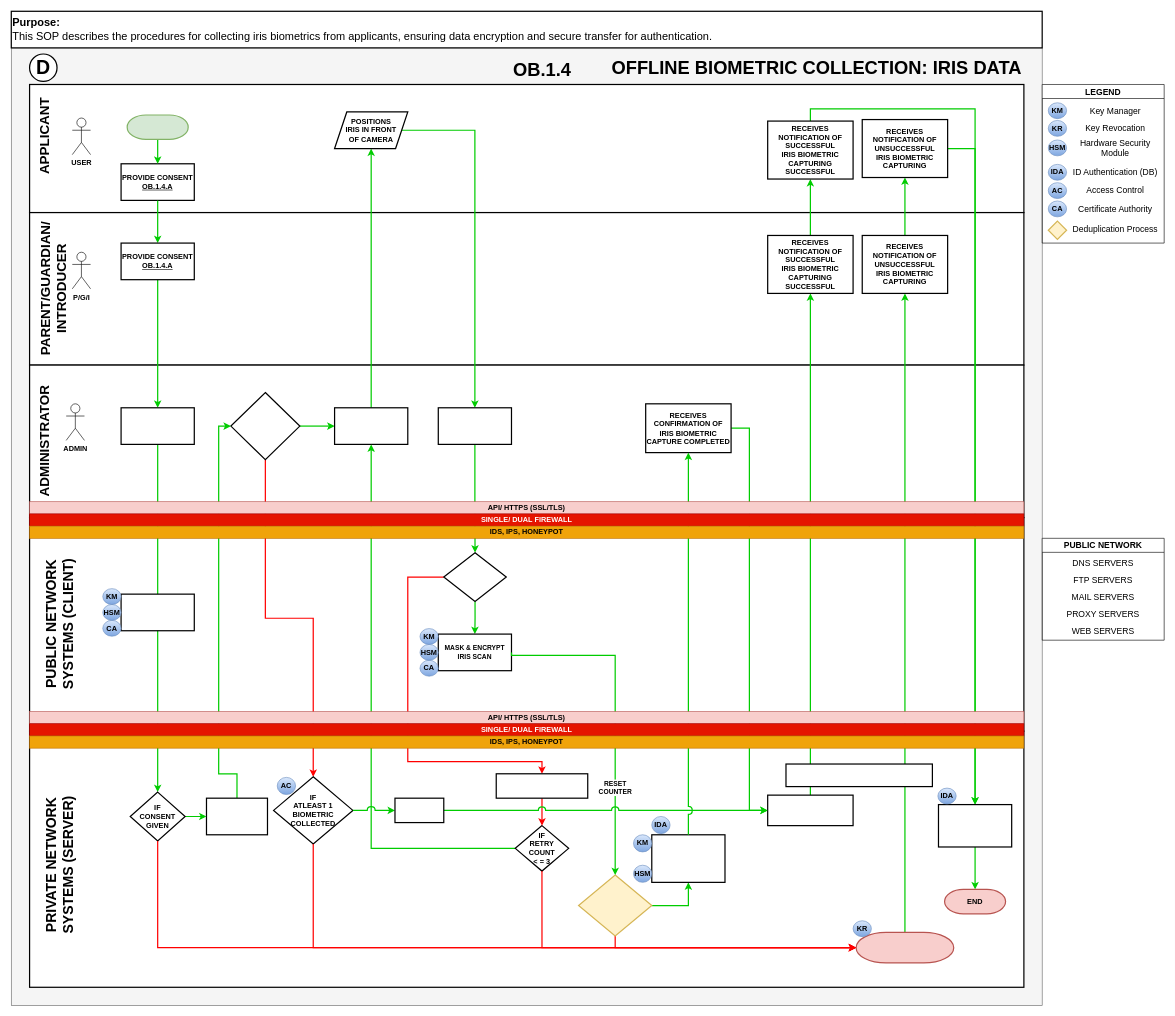
This 1175x1016 diagram has some shape labels left out. The centre of each missing label's shape, as x and y in pixels:
CAPTURE IRIS IMAGE OF APPLICANT: point (474, 426)
EXCEPTION AND ERROR HANDLING (COUNTER): point (541, 785)
IF APPLICANT IRIS PRESENT: point (265, 426)
IF IRIS BIOMETRIC DATA IS UNIQUE: point (615, 905)
IF IRIS SCAN SUCCESS: point (475, 577)
INITIATES IRIS BIOMETRIC COLLECTION: point (237, 816)
LOGS THE PROCESS AND STATUS: point (975, 825)
MASK & ENCRYPT RID AND APPLICANT DETAILS: point (157, 612)
NOTIFICATION GENERATOR: point (859, 775)
NOTIFY THE PARTICIPANTS: point (810, 810)
RECORD SPECIAL CASE: point (419, 810)
REQUEST IRIS SCAN OF APPLICANT: point (371, 426)
START (OFFLINE): point (157, 127)
STORE IRIS BIOMETRIC DATA IN RID ACCOUNT WITH ENCRYPTION AND HASHING: point (688, 858)
TERMINATE PROCESS: REJECT APPLICATION: point (904, 947)
VERIFY CONSENT GIVEN FOR BIOMETRIC COLLECTION: point (157, 426)
